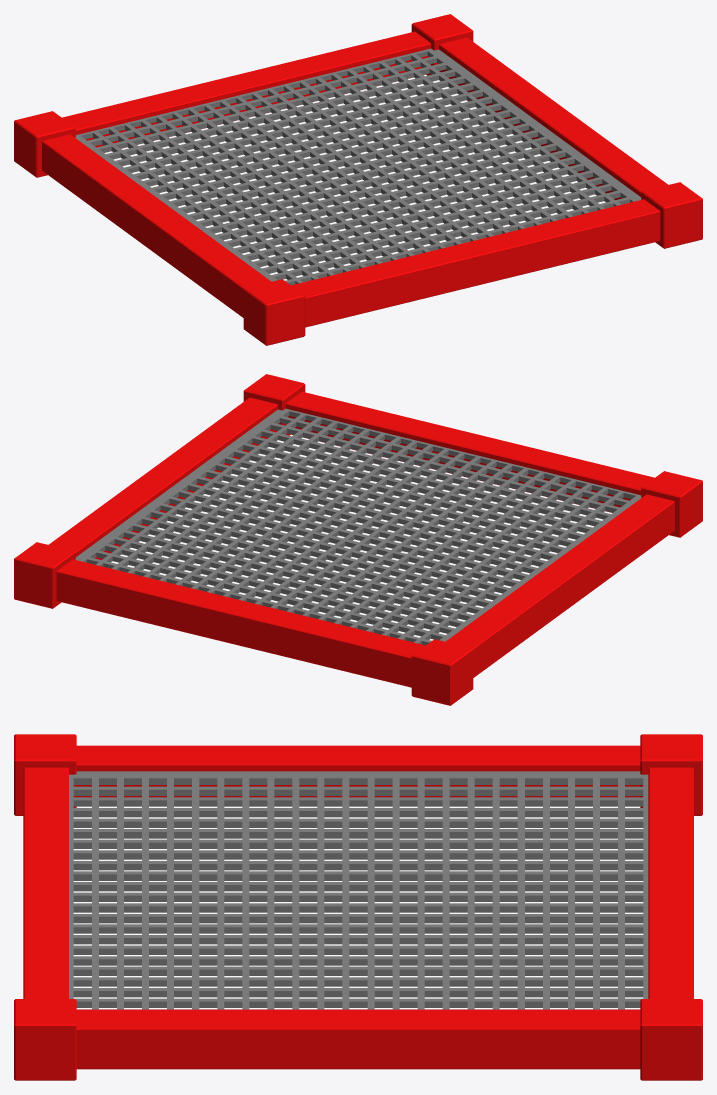
Rendered from SquareBridgeRed.fbx.
The picture shows the model from 3 angles, top to bottom: view 1: azimuth 30°, elevation 25°; view 2: azimuth 150°, elevation 25°; view 3: azimuth 270°, elevation 25°; orthographic projection. The views are drawn at different scales.
Visible parts, largest first — view 1: Grate.001, Cube.001; view 2: Grate.001, Cube.001; view 3: Grate.001, Cube.001.
Part boxes in pixels (x1,y1,x2,y2): Grate.001: [75, 48, 641, 285]; Cube.001: [14, 14, 702, 345]; Grate.001: [75, 408, 641, 645]; Cube.001: [14, 374, 702, 705]; Grate.001: [69, 771, 648, 1009]; Cube.001: [14, 734, 702, 1080].
Size of the model in its own units: 11 by 1 by 11.
